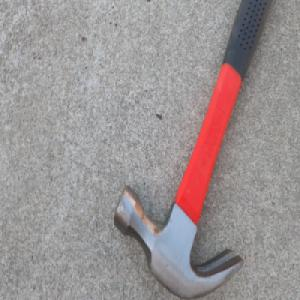Hammer: (112, 0, 272, 300)
